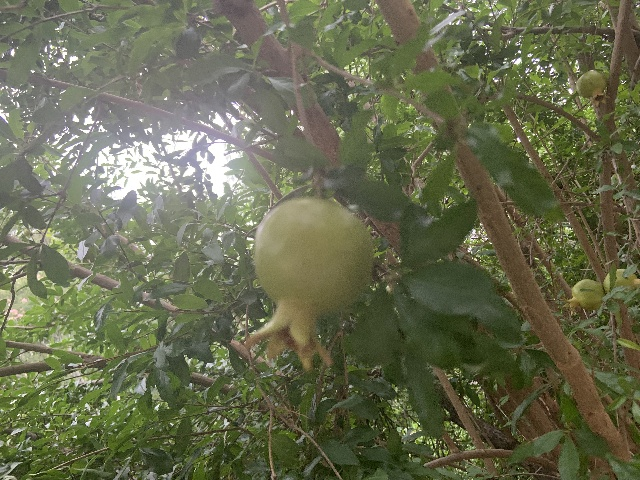mid-growth: (236, 196, 375, 372), (559, 279, 605, 316), (576, 69, 610, 107), (603, 268, 640, 298)
